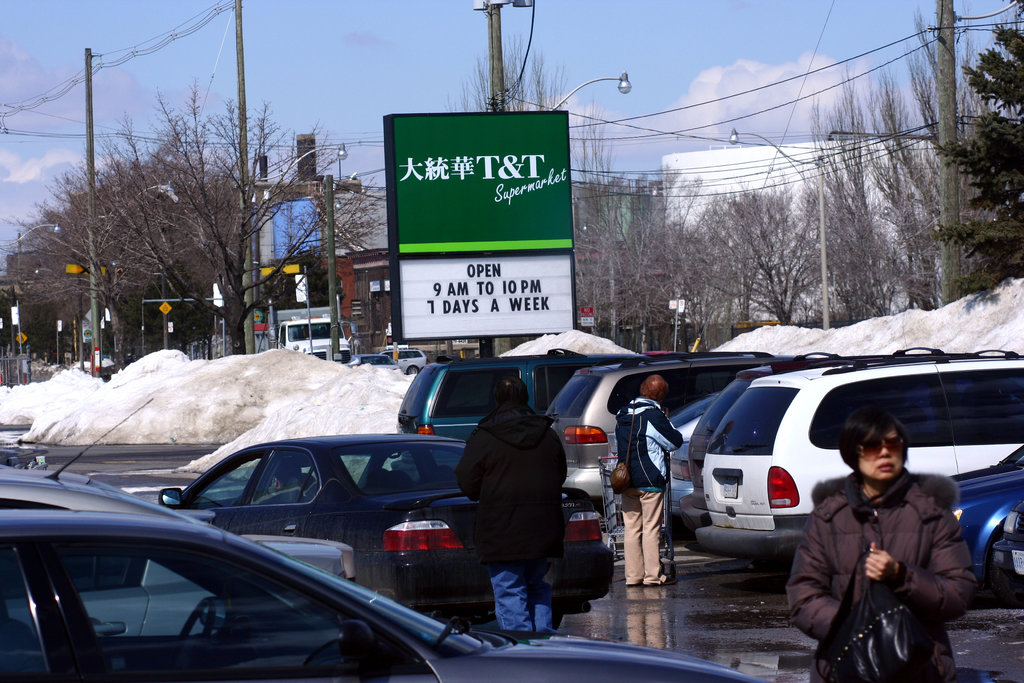cars: (0, 341, 1023, 682), (379, 346, 430, 373), (352, 354, 400, 370)
